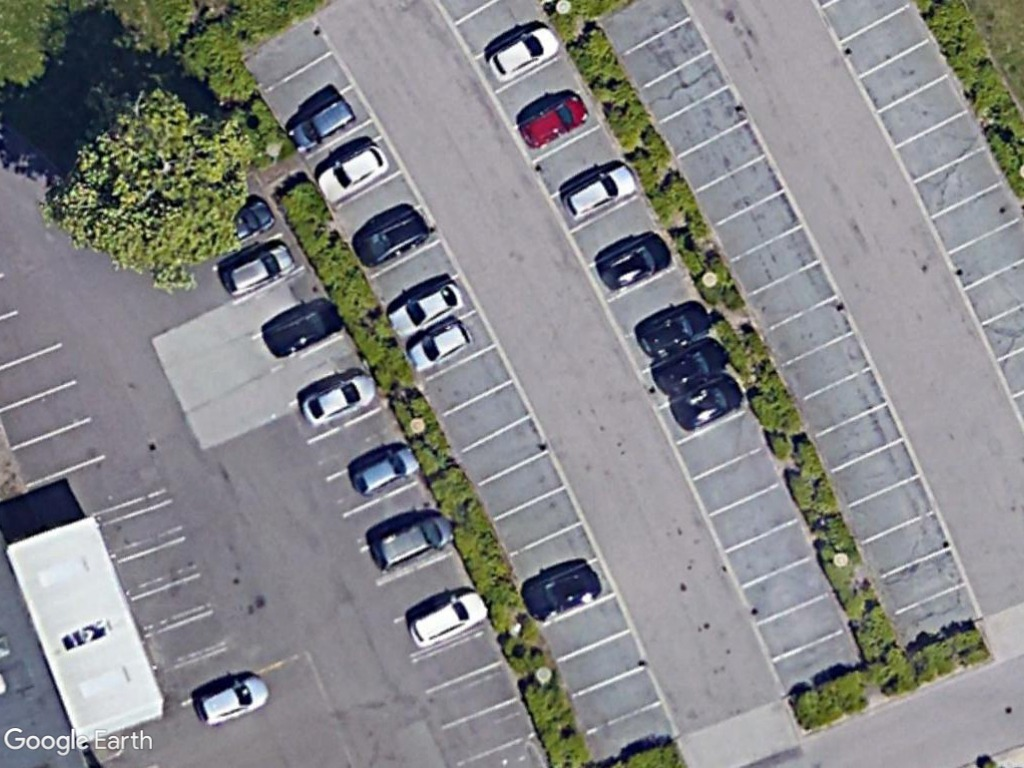car: (368, 508, 459, 574), (515, 558, 603, 626), (403, 584, 490, 652), (632, 297, 718, 363), (557, 157, 642, 223), (351, 202, 432, 270), (260, 296, 345, 360), (650, 333, 732, 398), (595, 228, 676, 293), (515, 88, 593, 154), (313, 140, 390, 206), (385, 277, 468, 338), (484, 20, 562, 84), (297, 368, 380, 428), (672, 368, 748, 432), (218, 240, 296, 301), (190, 671, 271, 729), (344, 441, 421, 500), (403, 313, 473, 372), (284, 97, 355, 155)
